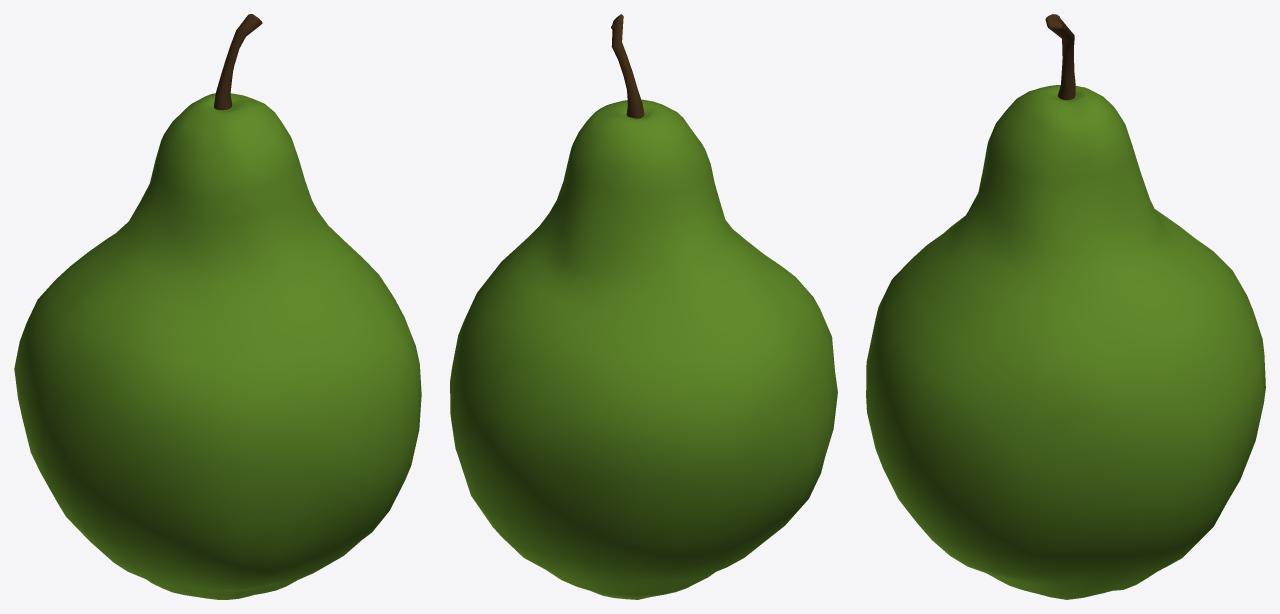
Rendered from Pear_fbx.fbx.
3 views of the same model, side by side, from view 1: azimuth 30°, elevation 25°; view 2: azimuth 150°, elevation 25°; view 3: azimuth 270°, elevation 25° (orthographic). The views are drawn at different scales.
Parts seen in each view (by area): view 1: Mesh; view 2: Mesh; view 3: Mesh.
Boxes of the visible parts, x1,y1,x2,y2 form: Mesh: [14, 14, 421, 599]; Mesh: [450, 14, 837, 599]; Mesh: [866, 14, 1265, 599].
Bounding box in the file's own units: 3.29 × 5.16 × 3.26.
